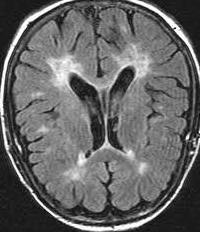Normal_Brain: (1, 1, 200, 232)
